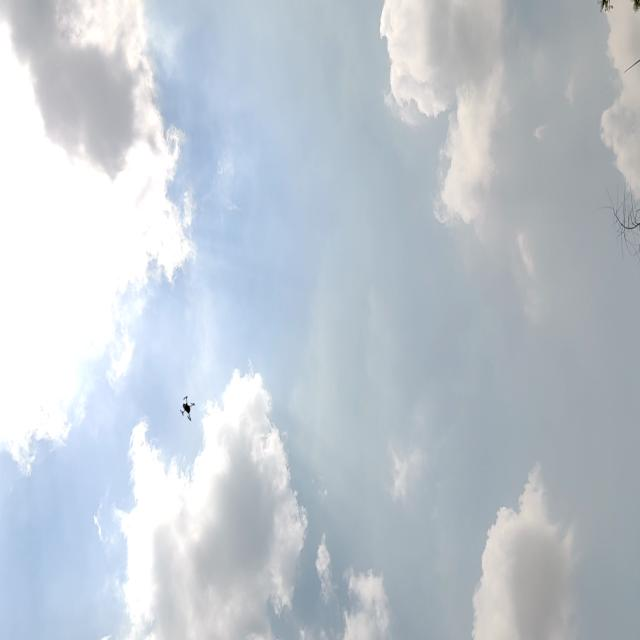drone: (174, 382, 200, 427)
